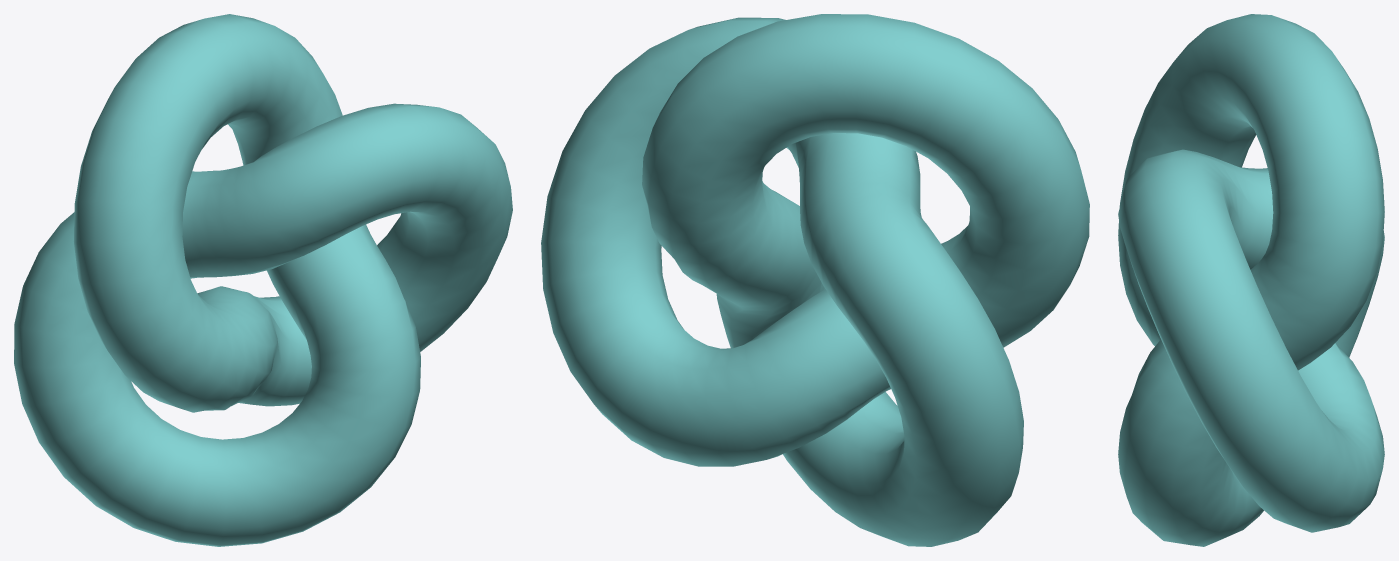
Rendered from knot-draco.glb.
3 renders of one model, left to right at view 1: azimuth 30°, elevation 25°; view 2: azimuth 150°, elevation 25°; view 3: azimuth 270°, elevation 25°, orthographic. The views are drawn at different scales.
Parts seen in each view (by area): view 1: Knot; view 2: Knot; view 3: Knot.
Boxes of the visible parts, <box> form: Knot: <box>14,14,512,546</box>; Knot: <box>541,14,1089,546</box>; Knot: <box>1118,14,1384,546</box>.
Size of the model in its own units: 1.7 by 1.76 by 0.8598.
